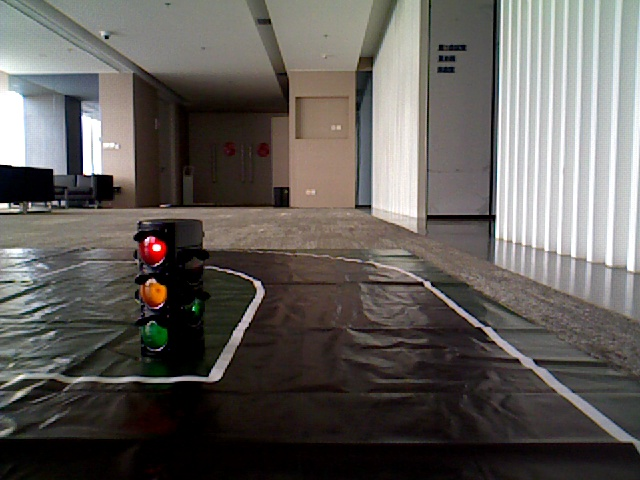red: (137, 222, 181, 355)
